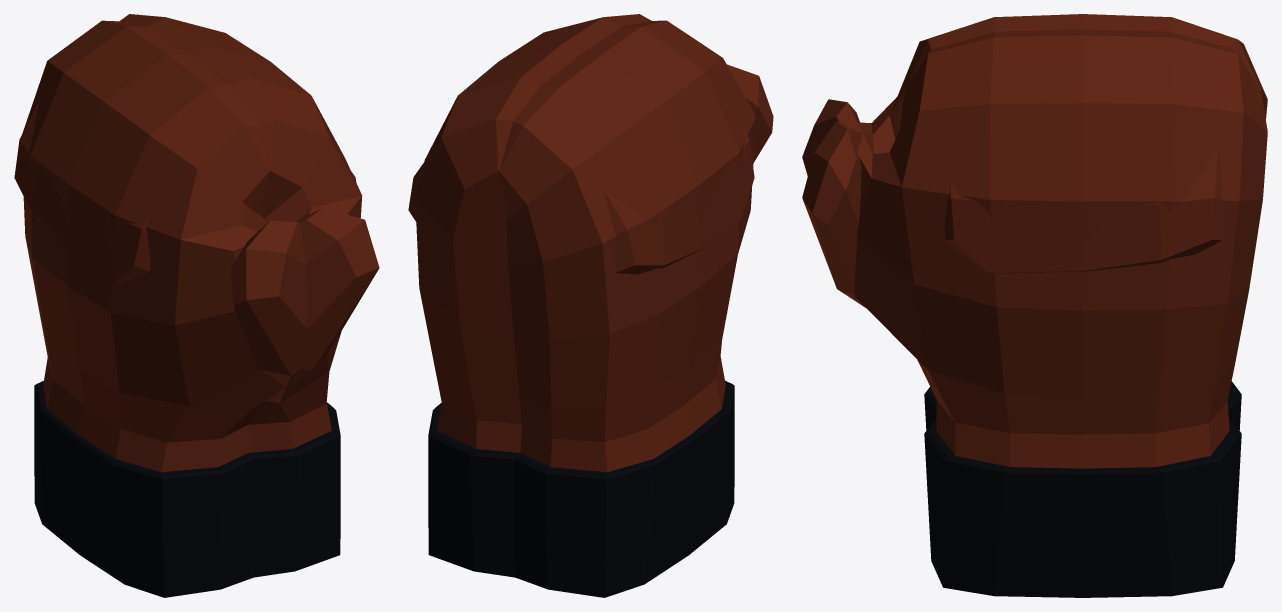
File: gloves.glb
The picture shows the model from 3 angles, left to right: view 1: azimuth 30°, elevation 25°; view 2: azimuth 150°, elevation 25°; view 3: azimuth 270°, elevation 25°; orthographic projection. The views are drawn at different scales.
Visible parts, largest first — view 1: glove-right, glove-left; view 2: glove-right, glove-left; view 3: glove-left, glove-right.
Part boxes in pixels (box(x1,y1,x2,y2)): glove-right: box(22, 20, 379, 597); glove-left: box(14, 14, 362, 577); glove-right: box(408, 20, 756, 597); glove-left: box(415, 14, 773, 577); glove-left: box(802, 29, 1267, 597); glove-right: box(802, 14, 1267, 430).
Bounding box in the file's own units: 0.1417 × 0.27 × 0.2205.
